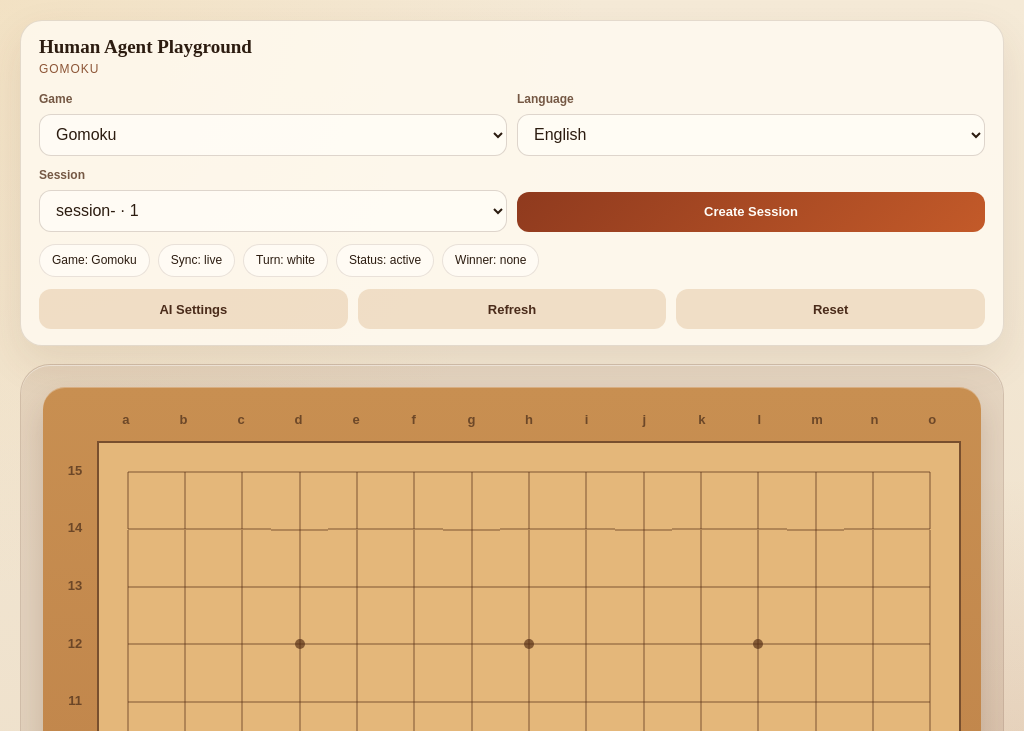
Test case: App › boots into the most recently updated session and lets the user switch sessions
The image size is (1024, 731).
Check: the text "Turn: white" is shown, box [243, 244, 328, 278]
Select "session- · 0" in the dropdown labelled "Session" at (273, 211), box [39, 190, 507, 232]
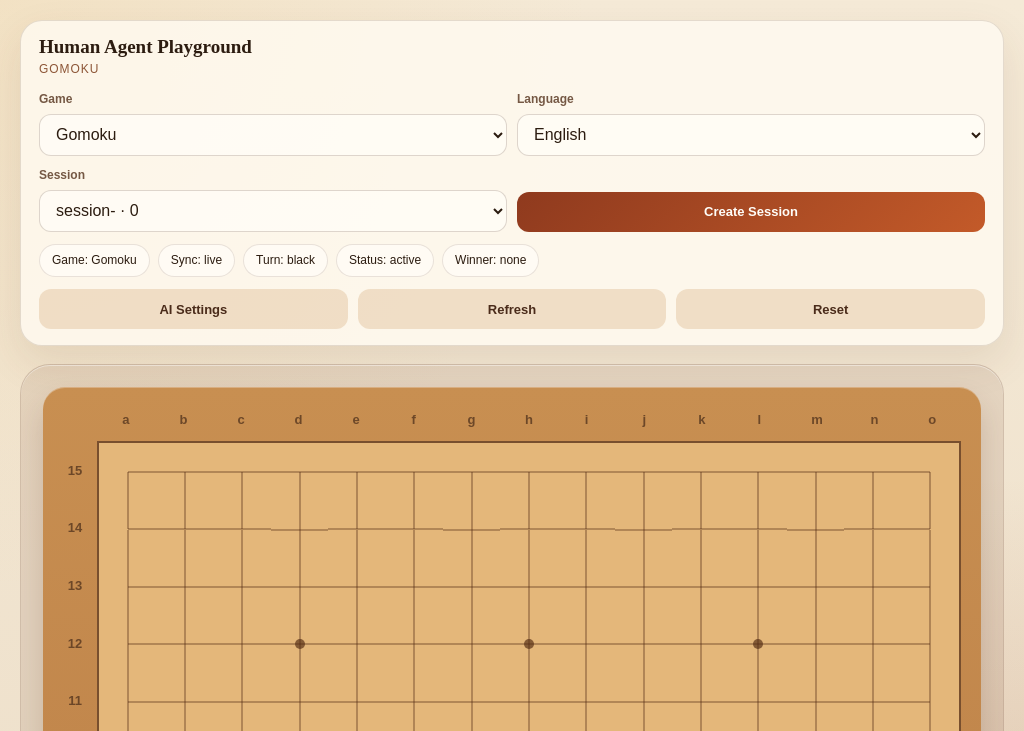
Check: the text "Turn: black" is shown, box [243, 244, 328, 278]
